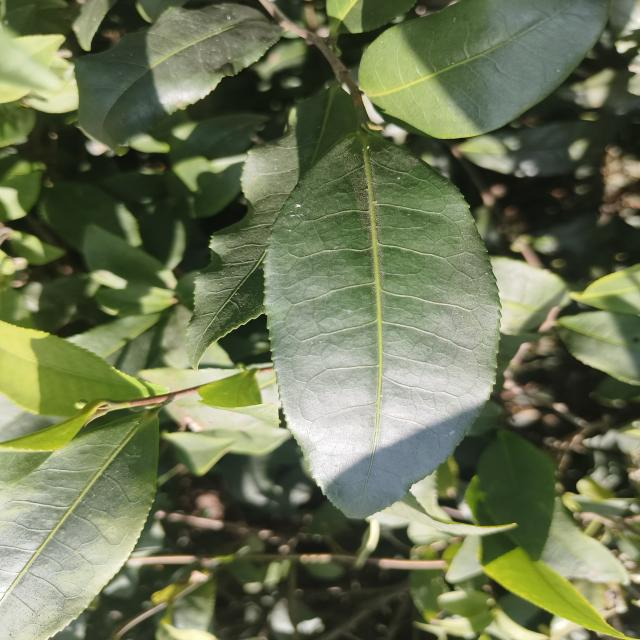Leaf: (265, 133, 500, 517), (188, 86, 356, 349), (0, 412, 159, 640), (359, 0, 608, 138), (75, 3, 281, 148), (0, 321, 160, 417), (481, 533, 626, 638), (477, 430, 555, 560), (458, 121, 597, 177), (540, 498, 629, 584), (38, 181, 141, 250), (491, 256, 571, 335), (82, 225, 177, 290), (557, 311, 640, 385), (68, 313, 161, 375), (166, 154, 247, 220), (0, 400, 101, 452), (180, 114, 268, 159), (570, 264, 640, 315), (0, 31, 59, 89), (162, 431, 234, 476), (95, 283, 177, 316)
